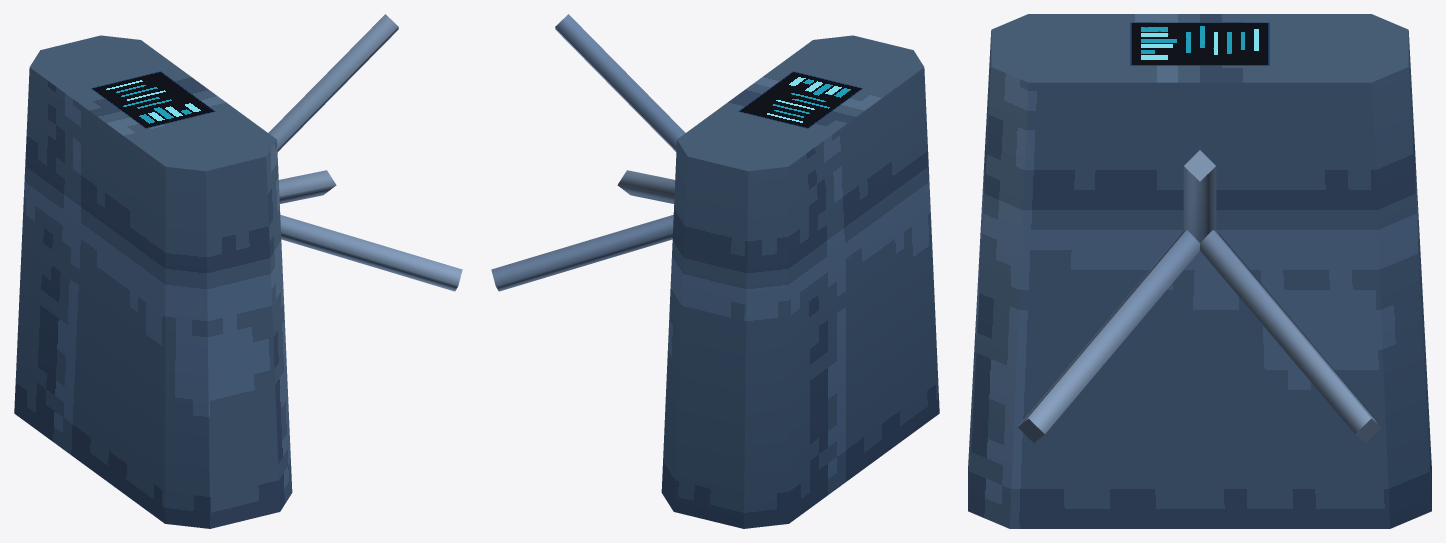
The model's file is cyroom.turnstile.glb.
3 renders of one model, left to right at view 1: azimuth 30°, elevation 25°; view 2: azimuth 150°, elevation 25°; view 3: azimuth 270°, elevation 25°, orthographic. The views are drawn at different scales.
Parts seen in each view (by area): view 1: kit_body, kit_card_details; view 2: kit_body, kit_card_details; view 3: kit_body, kit_card_details.
Boxes of the visible parts, x1,y1,x2,y2 form: kit_body: (14, 14, 462, 528); kit_card_details: (91, 71, 215, 128); kit_body: (491, 14, 939, 528); kit_card_details: (738, 71, 862, 128); kit_body: (968, 14, 1431, 528); kit_card_details: (1130, 22, 1269, 65).
Size of the model in its own units: 0.9708 by 1.15 by 1.
3 materials, 2 textured.
